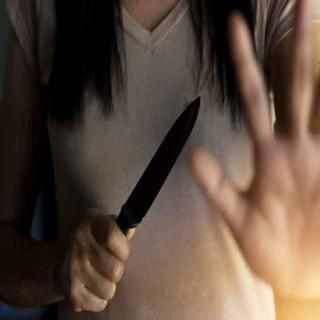knife: (72, 89, 204, 315)
